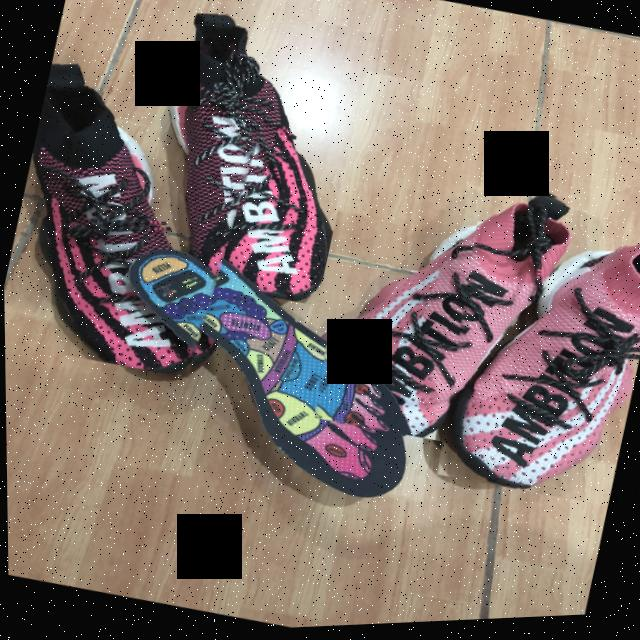shoe: (1, 48, 272, 390), (296, 151, 581, 469), (124, 0, 376, 316), (416, 181, 640, 518)
